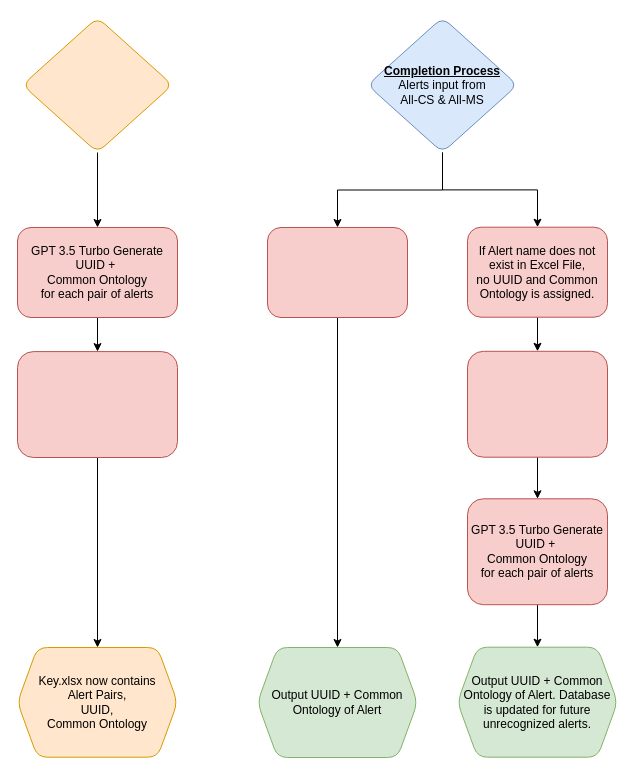
Some shapes in this 635 by 775 pixel diagram are drawn without their labels. Here are the shapes that lost their labels. From the top down, the centre of each, then its label:
At point 97,84: "Data Generation Key.xlsx pairs the Alert name for MS and CS alerts".
At point 337,272: "Check for If Alert name exist in Excel File".
At point 97,404: "UUID + Common Ontology is appended to Excel File, paired up with the alert pairs".
At point 537,403: "Update Excel File Append to new row Create new pairings".
